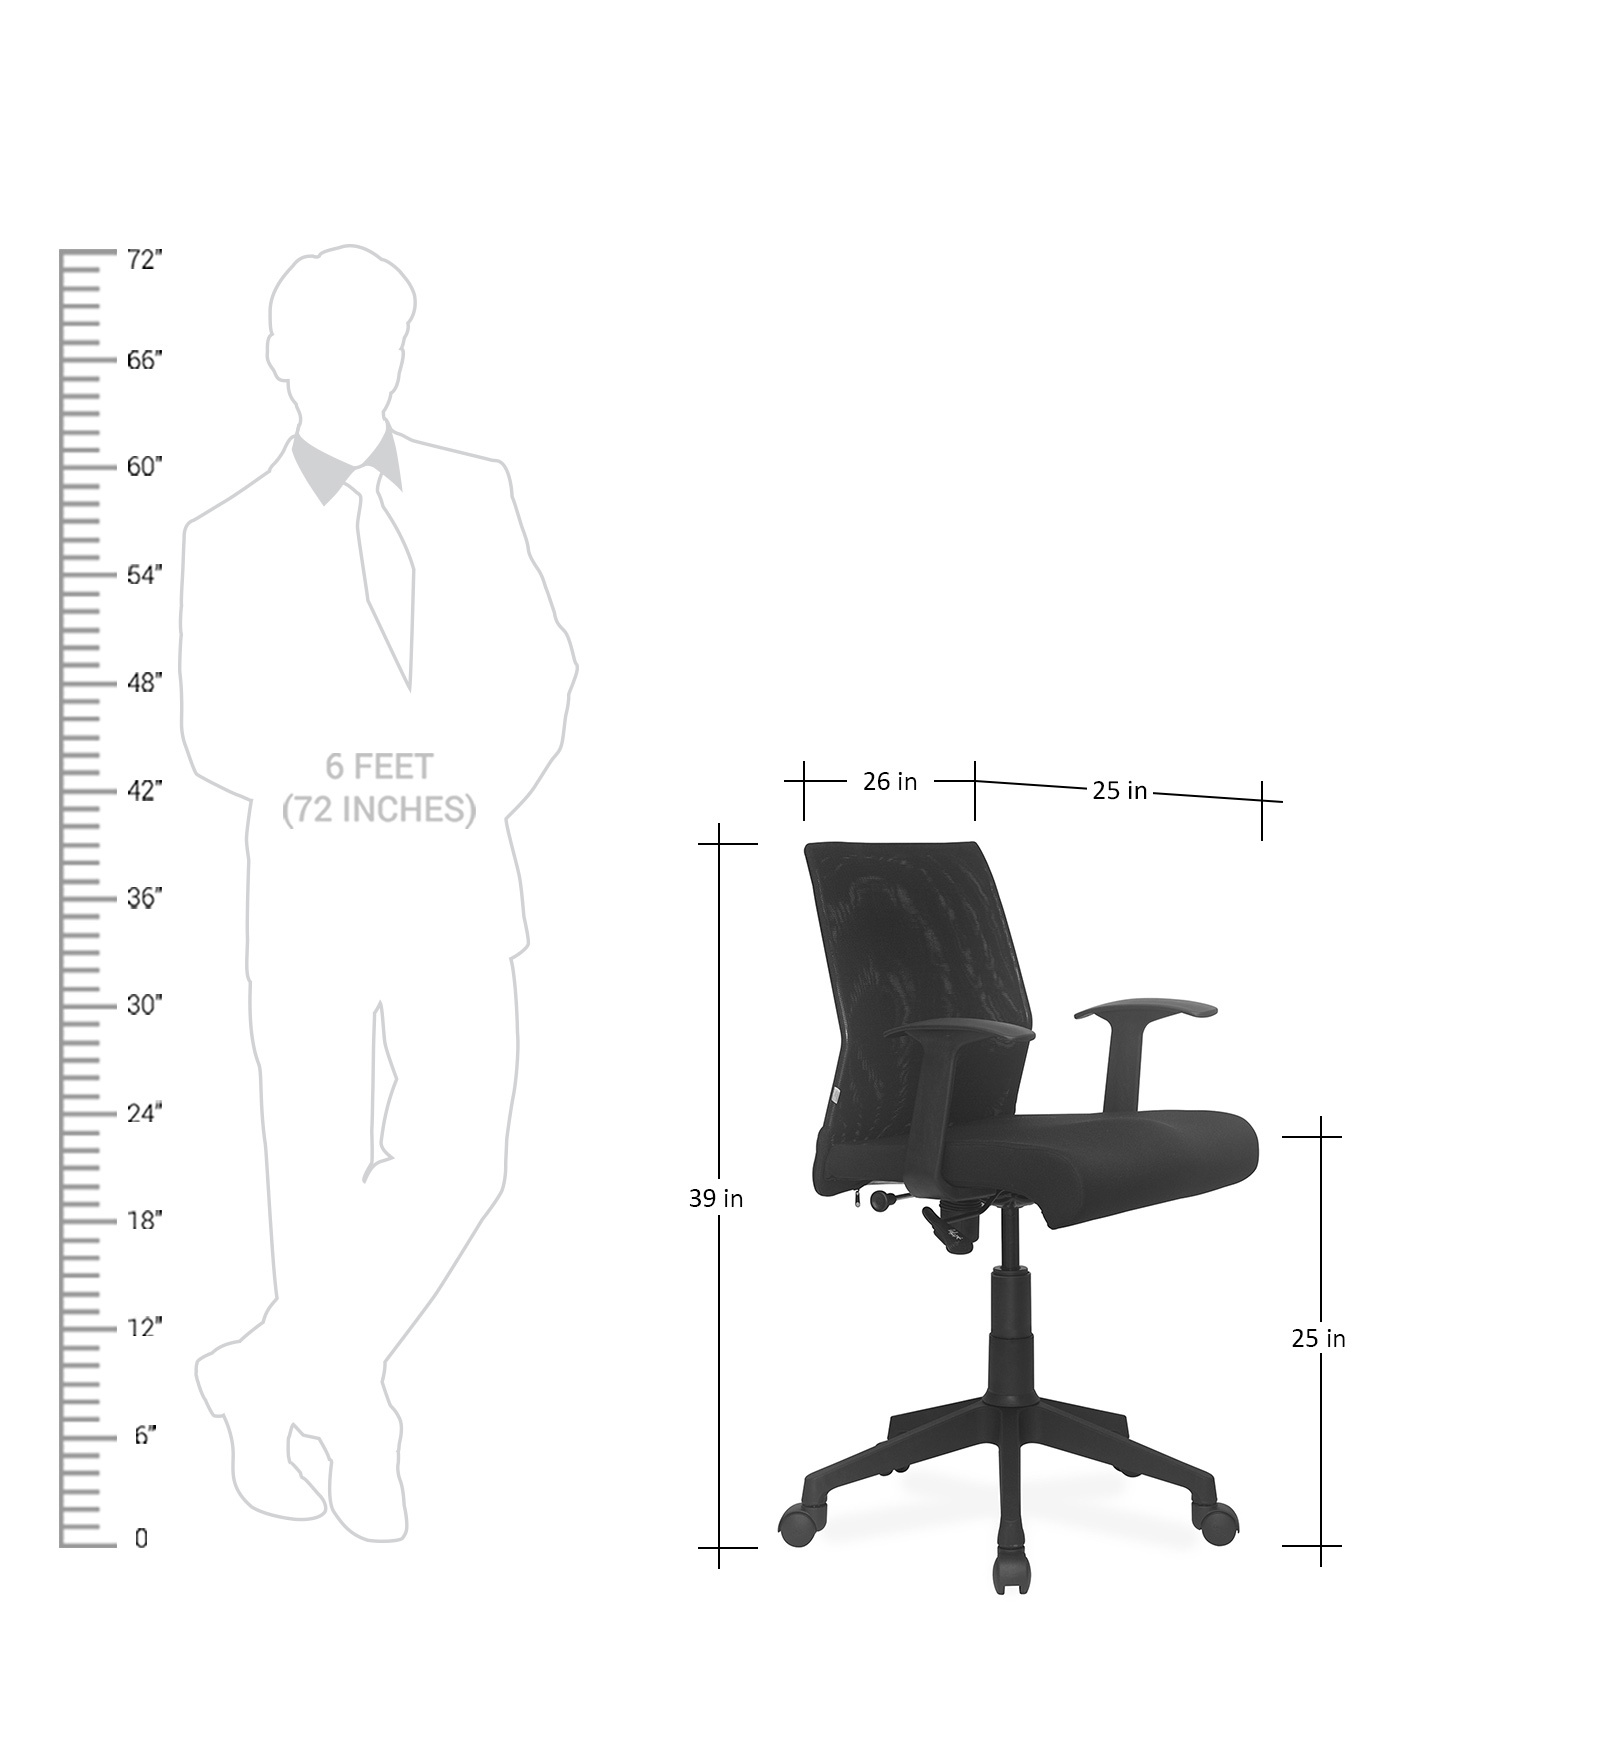Thames Low Back Mesh Office Chair in Black Colour by Nilkamal: (782, 826, 1251, 1607)
